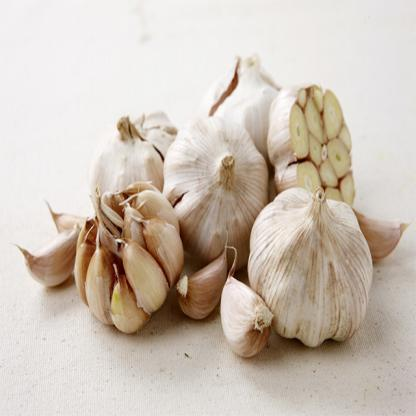garlic: (256, 186, 371, 335), (172, 110, 258, 266), (80, 190, 173, 329), (282, 94, 352, 206), (89, 128, 176, 202), (206, 272, 268, 354), (210, 58, 277, 112), (181, 254, 227, 322), (24, 229, 75, 287)
